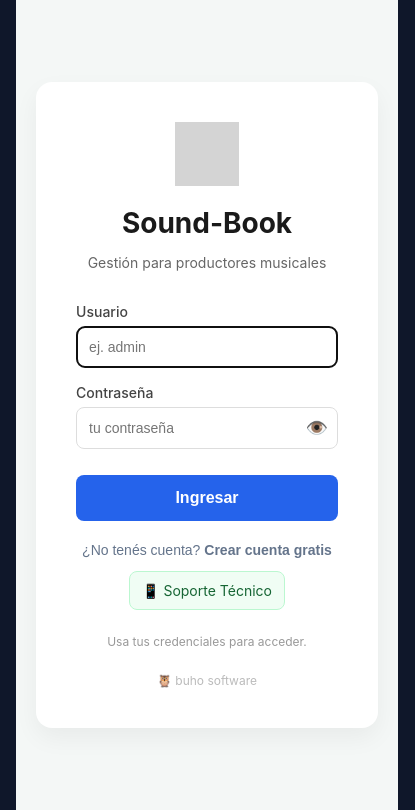
Scenario: Login › shows error when only username is provided
The image size is (415, 810).
Type "testuser" into the field with placeholder "ej. admin" at (207, 347), box x1=76 y1=326 x2=338 y2=368
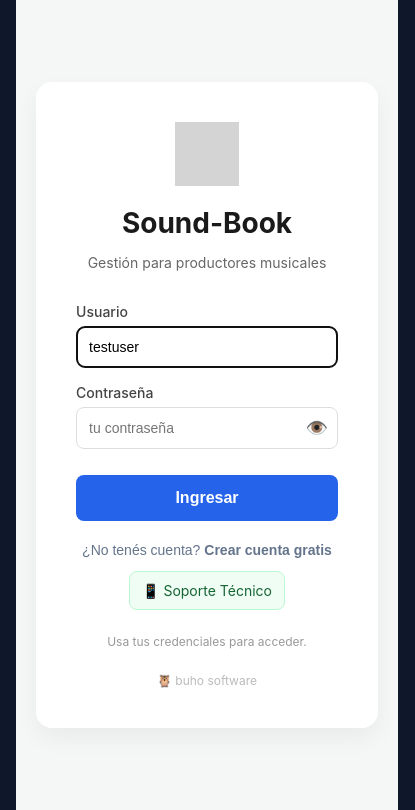
Click the button "Ingresar" at (207, 498), box x1=76 y1=475 x2=338 y2=521
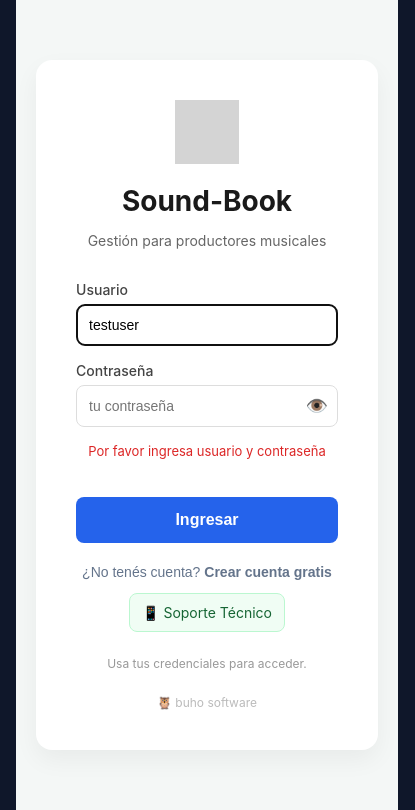
Expected: the text "Por favor ingresa usuario y contraseña" is shown, x1=76 y1=443 x2=338 y2=459
